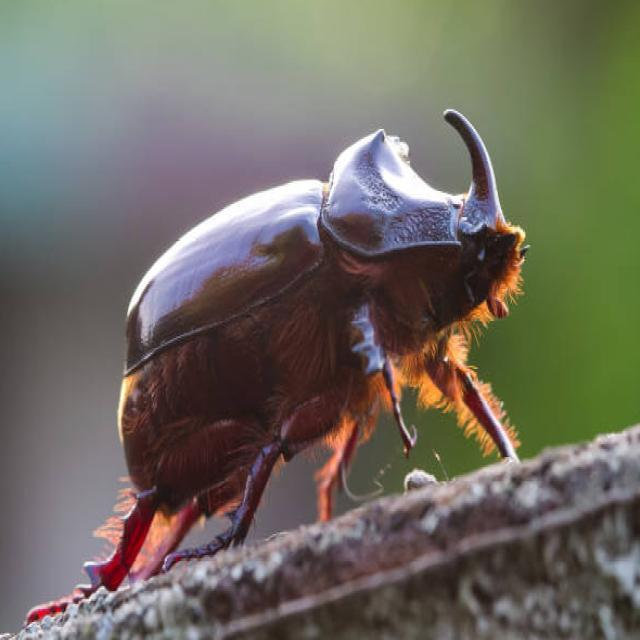Rhino-beetle: (108, 103, 542, 560)
